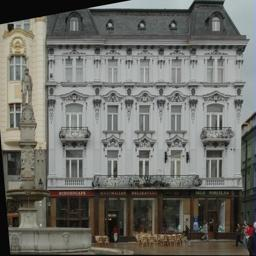building: (48, 5, 247, 241)
